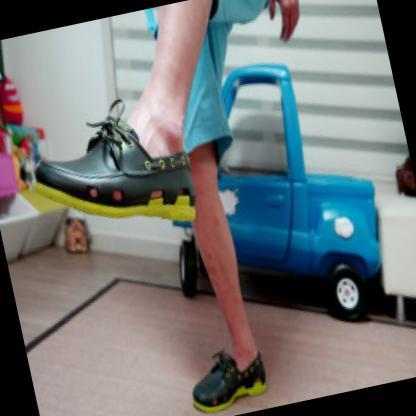no_safety-shoe: (13, 79, 221, 273), (170, 329, 291, 415)
